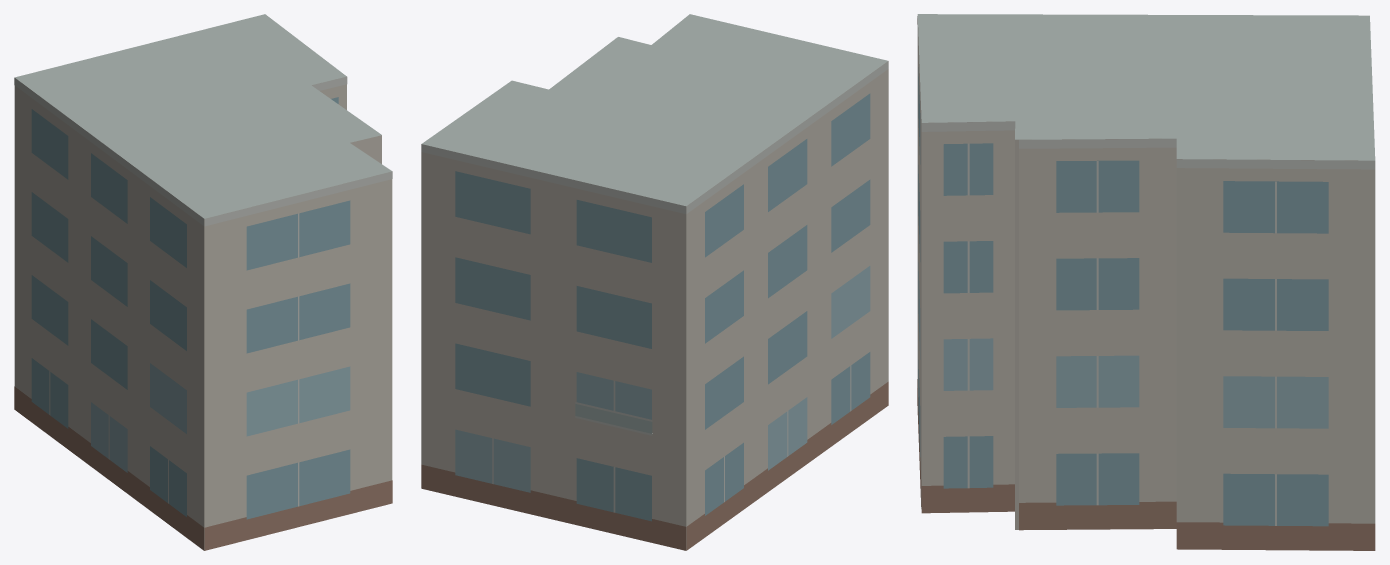
Rendered from survey-upis-32790054.glb.
The picture shows the model from 3 angles, left to right: view 1: azimuth 30°, elevation 25°; view 2: azimuth 150°, elevation 25°; view 3: azimuth 270°, elevation 25°; orthographic projection. The views are drawn at different scales.
Parts seen in each view (by area): view 1: survey-upis-32790054.tmp; view 2: survey-upis-32790054.tmp; view 3: survey-upis-32790054.tmp.
Boxes of the visible parts, bbox=[...] form: survey-upis-32790054.tmp: bbox=[14, 14, 392, 550]; survey-upis-32790054.tmp: bbox=[421, 14, 888, 550]; survey-upis-32790054.tmp: bbox=[917, 14, 1375, 550].
Bounding box in the file's own units: 8.51 × 10.55 × 11.22.
